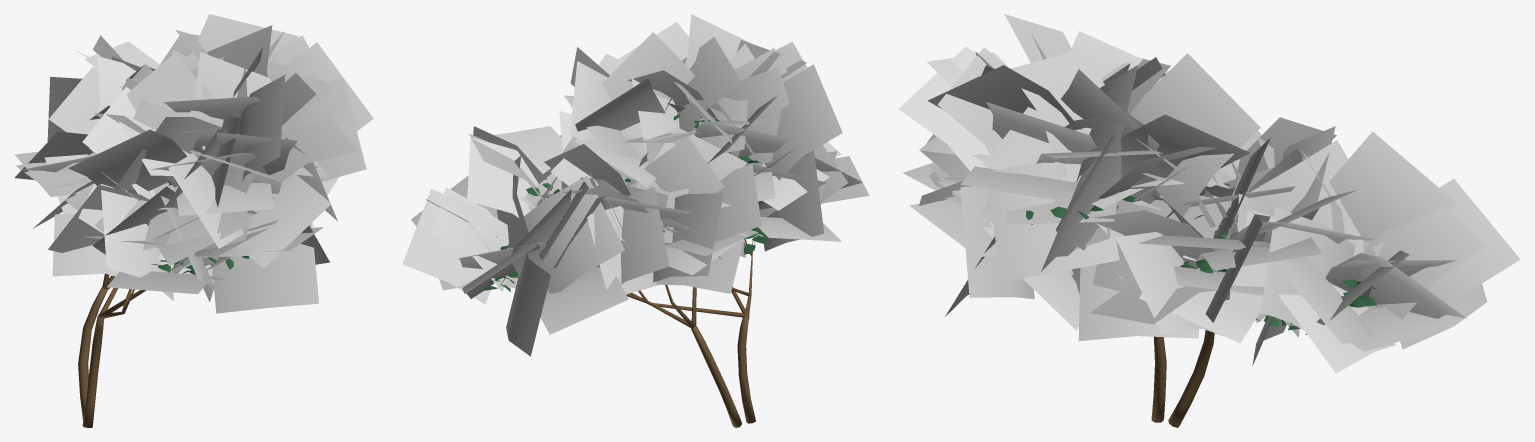
The model's file is Myrte_Incline_LOD1.fbx.
3 views of the same model, side by side, from view 1: azimuth 30°, elevation 25°; view 2: azimuth 150°, elevation 25°; view 3: azimuth 270°, elevation 25° (orthographic). The views are drawn at different scales.
Visible parts, largest first — view 1: Myrte_Incline_LOD1; view 2: Myrte_Incline_LOD1; view 3: Myrte_Incline_LOD1.
Boxes of the visible parts, x1=… form: Myrte_Incline_LOD1: x1=14, y1=14, x2=373, y2=427; Myrte_Incline_LOD1: x1=402, y1=14, x2=869, y2=427; Myrte_Incline_LOD1: x1=898, y1=14, x2=1520, y2=427.
Bounding box in the file's own units: 238 × 233 × 303.
